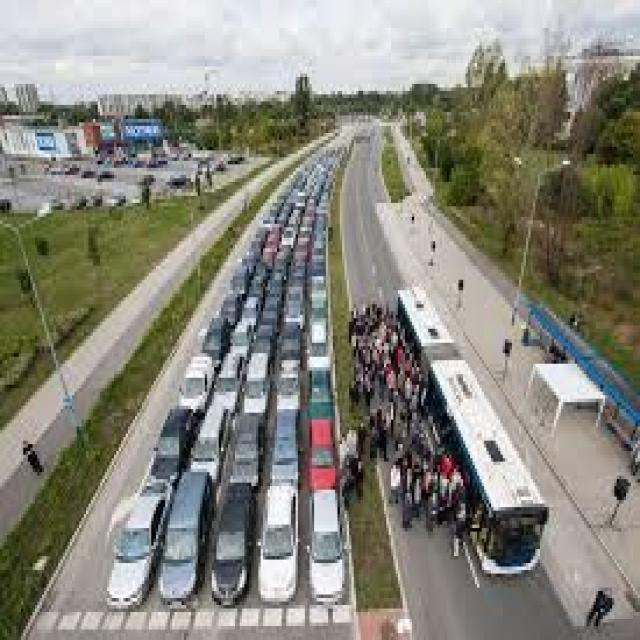bus: (400, 290, 545, 577)
car: (158, 476, 209, 602), (107, 497, 165, 605), (212, 483, 251, 605), (258, 486, 296, 605), (310, 490, 342, 605), (149, 409, 193, 486), (191, 402, 226, 486), (179, 357, 212, 416), (272, 409, 296, 486), (230, 420, 256, 490), (310, 420, 335, 490), (214, 353, 240, 416), (244, 353, 268, 416), (202, 318, 226, 367), (310, 367, 330, 420), (307, 322, 328, 371), (284, 287, 300, 329), (279, 360, 298, 395), (265, 273, 282, 308), (221, 294, 237, 329), (261, 297, 277, 332), (254, 325, 270, 357), (282, 325, 298, 357), (310, 276, 323, 315), (233, 266, 247, 297), (249, 276, 263, 301), (233, 325, 249, 346), (242, 301, 258, 322), (289, 266, 303, 287)
person: (454, 500, 465, 546), (389, 462, 400, 504), (449, 469, 463, 500), (377, 409, 384, 462), (426, 493, 435, 532), (440, 455, 451, 479), (370, 427, 377, 458), (405, 493, 410, 532)
